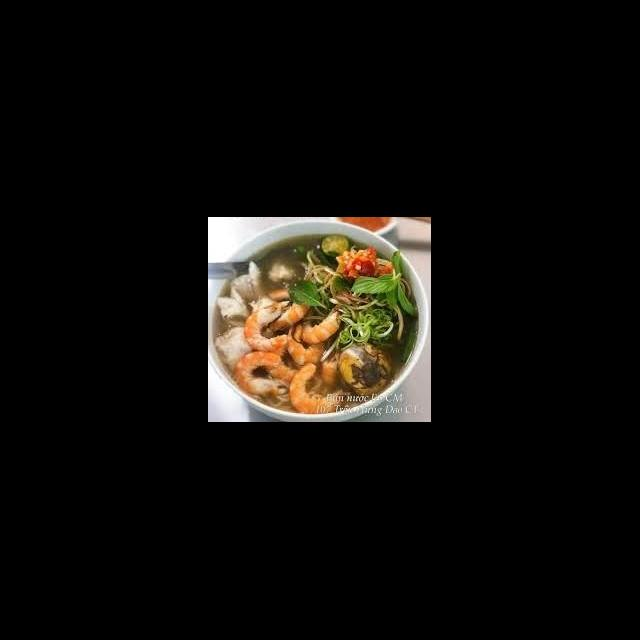ca: (212, 324, 255, 376), (230, 258, 266, 310), (214, 286, 253, 330)
tom: (288, 362, 346, 418), (230, 348, 286, 402), (240, 300, 292, 356), (264, 284, 314, 334), (298, 298, 346, 346), (284, 322, 330, 368)
